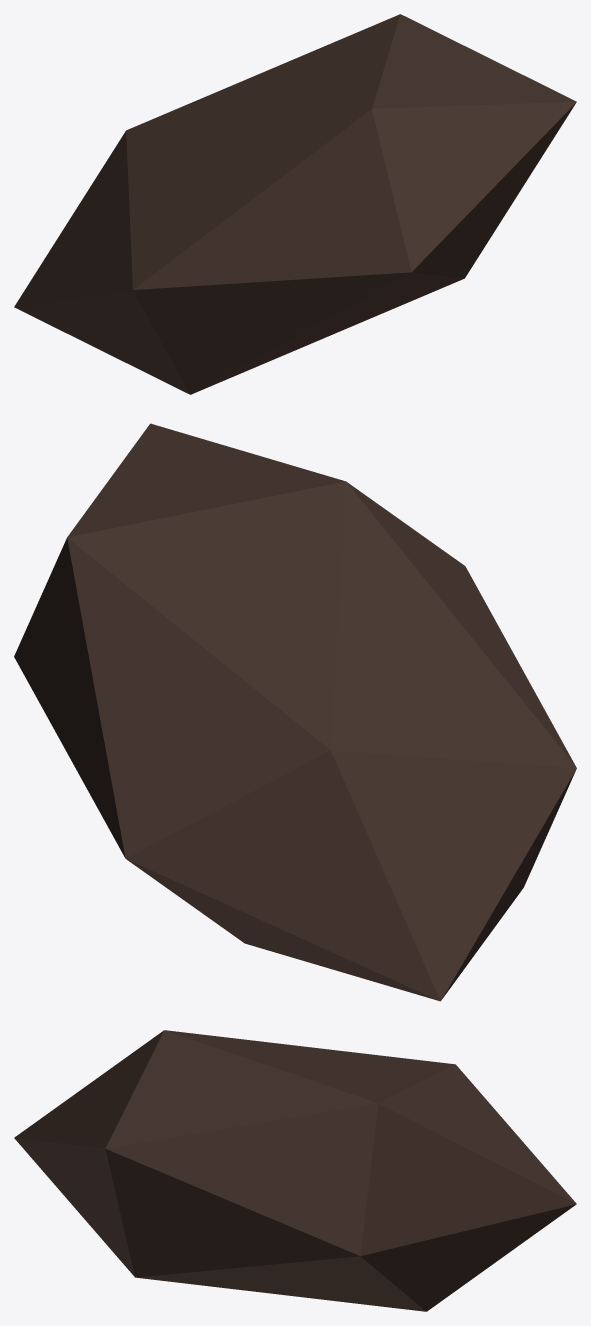
Rendered from gore_10.glb.
3 renders of one model, top to bottom at view 1: azimuth 30°, elevation 25°; view 2: azimuth 150°, elevation 25°; view 3: azimuth 270°, elevation 25°, orthographic. The views are drawn at different scales.
Parts seen in each view (by area): view 1: CHUNK; view 2: CHUNK; view 3: CHUNK.
Boxes of the visible parts, left/top/right/bottom form: CHUNK: left=14, top=14, right=576, bottom=394; CHUNK: left=14, top=423, right=576, bottom=1001; CHUNK: left=14, top=1030, right=576, bottom=1311.
Size of the model in its own units: 0.088 by 0.0569 by 0.0961.
